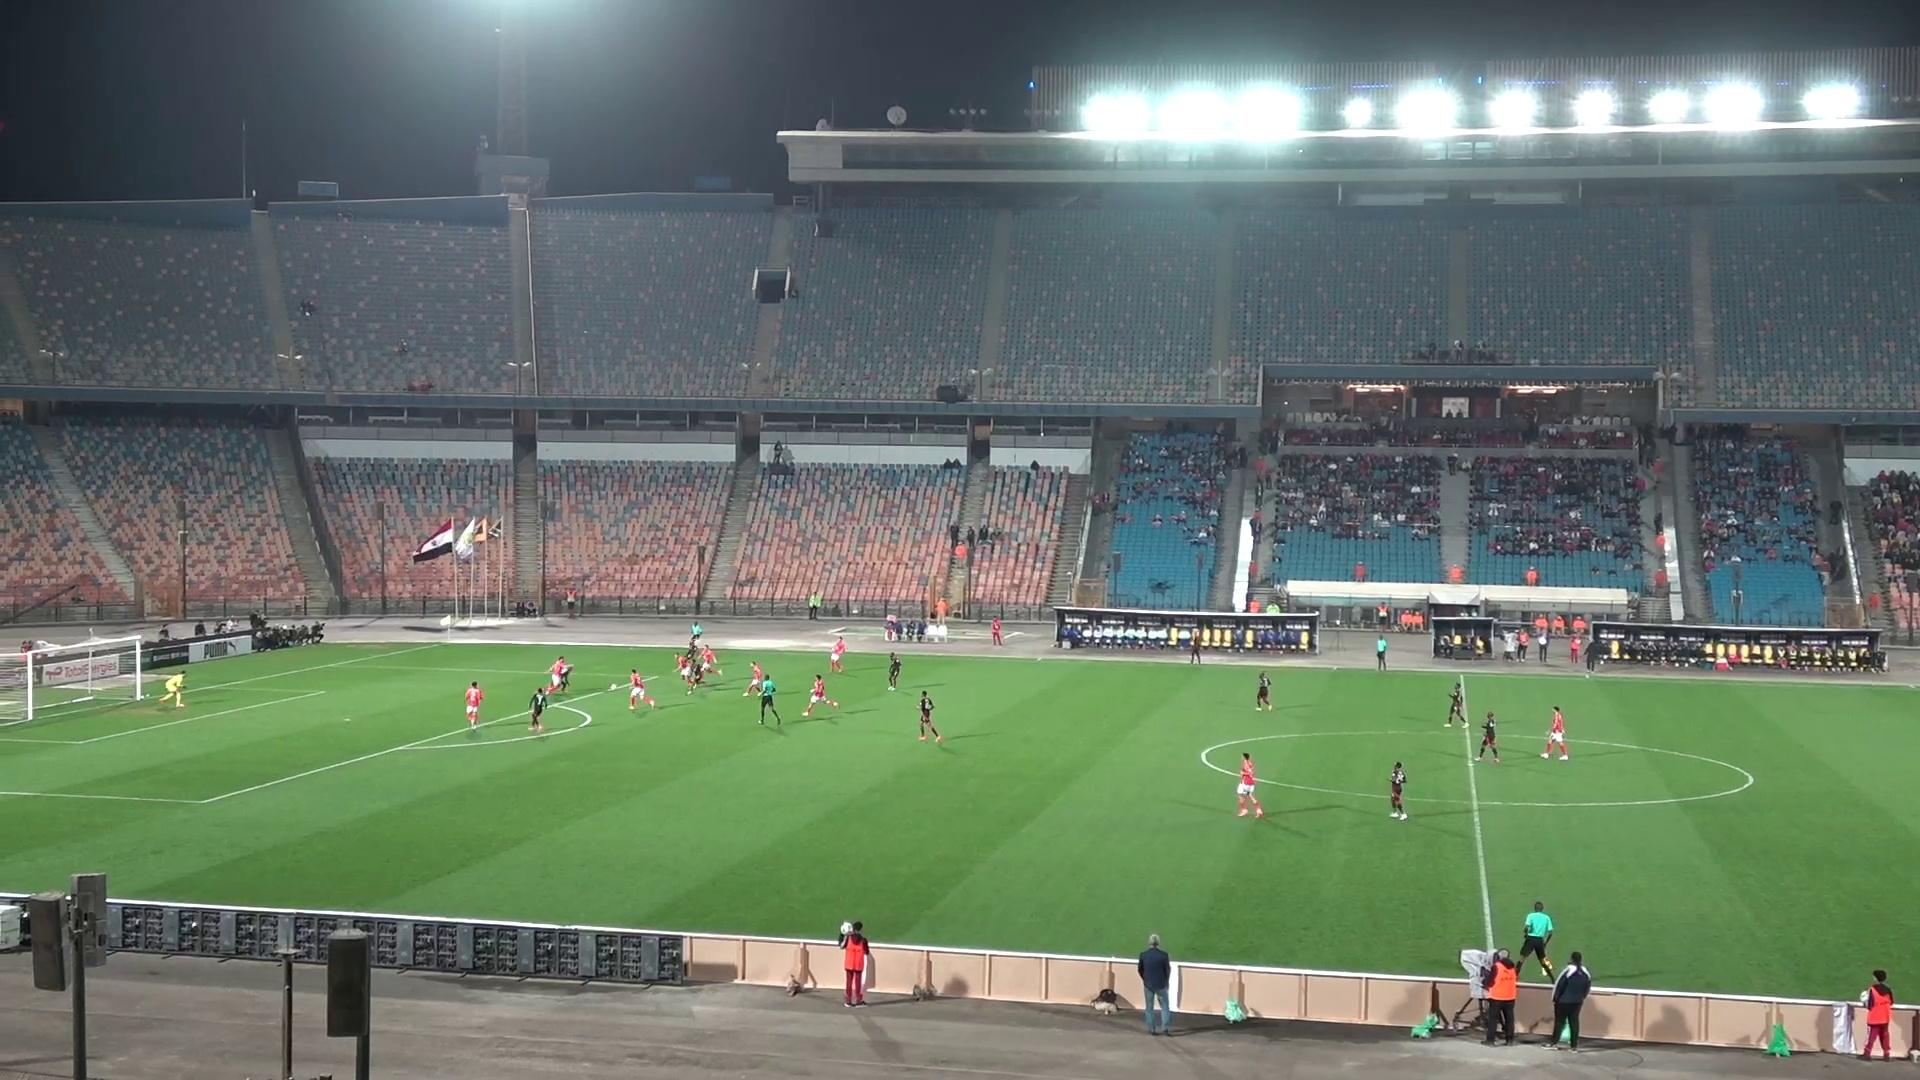GK1: (158, 673, 185, 708)
Refree: (1516, 901, 1555, 976), (745, 674, 779, 727), (682, 621, 711, 651), (1373, 634, 1390, 671)
Team1: (1236, 752, 1265, 818), (611, 669, 655, 709), (1540, 705, 1571, 760), (800, 675, 837, 717), (741, 665, 775, 698), (545, 655, 574, 694), (694, 642, 720, 680), (464, 680, 484, 729), (828, 633, 847, 673)
Team2: (918, 690, 944, 742), (1473, 711, 1501, 761), (676, 651, 707, 694), (527, 686, 555, 732), (1389, 762, 1410, 820), (1444, 676, 1469, 725), (1254, 673, 1274, 709), (886, 653, 903, 690)
